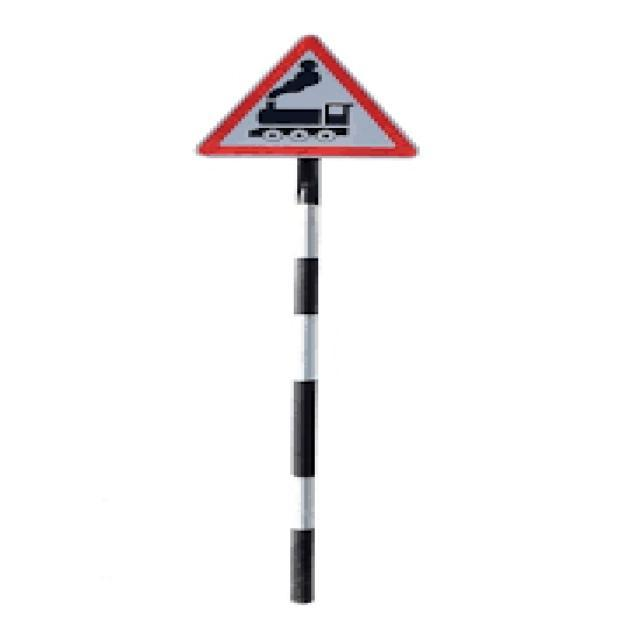unguarded level crossing: (194, 34, 422, 166)
